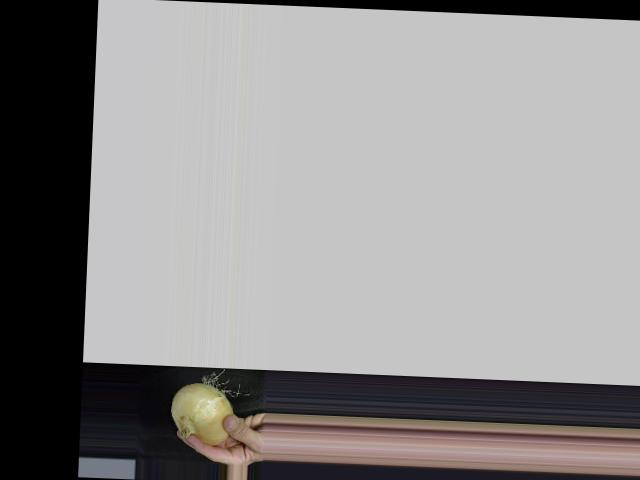onion: (171, 381, 233, 447)
